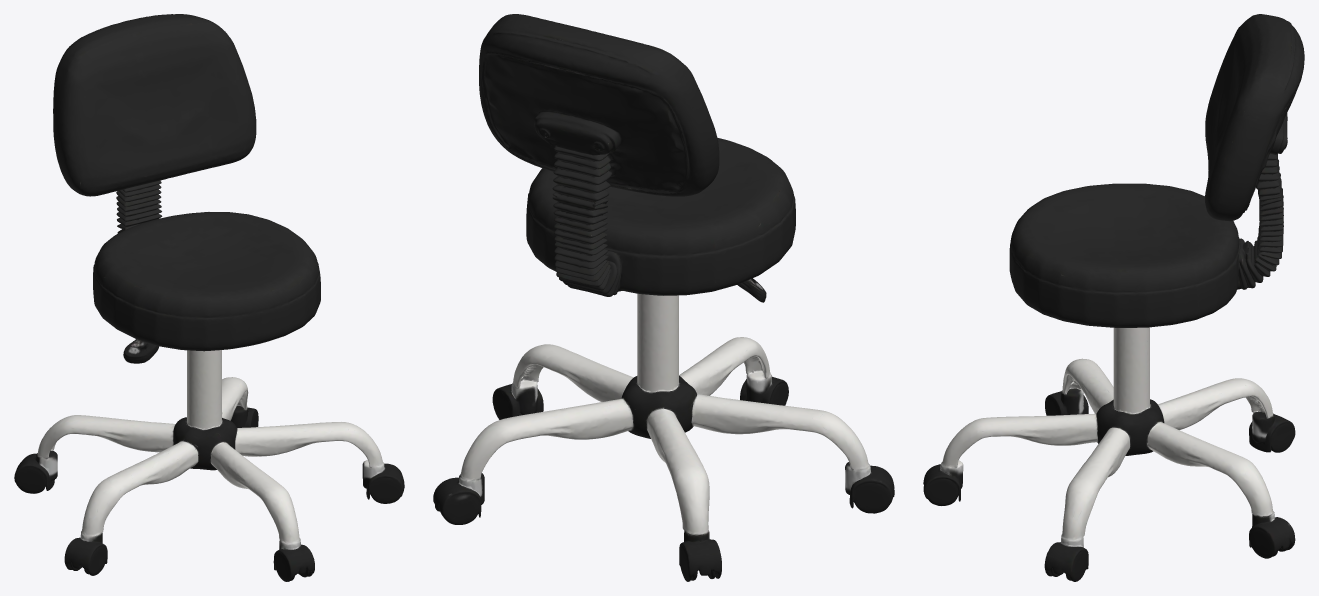
The picture shows the model from 3 angles, left to right: view 1: azimuth 30°, elevation 25°; view 2: azimuth 150°, elevation 25°; view 3: azimuth 270°, elevation 25°; orthographic projection. The views are drawn at different scales.
Visible parts, largest first — view 1: geometry_0; view 2: geometry_0; view 3: geometry_0.
Boxes of the visible parts, x1,y1,x2,y2 form: geometry_0: (14,14,404,581); geometry_0: (433,14,894,581); geometry_0: (923,14,1304,581).
Size of the model in its own units: 0.7142 by 0.8853 by 0.6642.
Materials: 1 (1 with a texture image).
